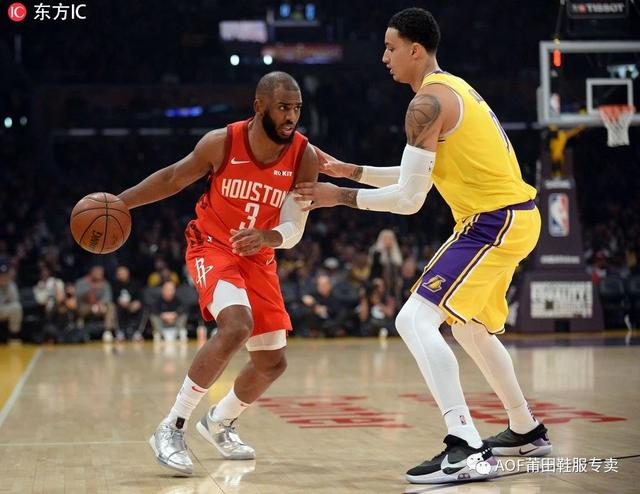ball: (69, 192, 131, 254)
